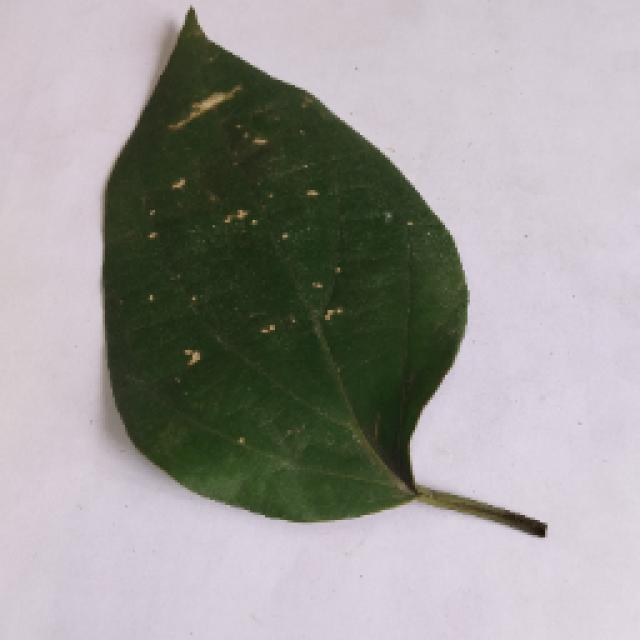pollu-disease: (102, 5, 532, 535)
